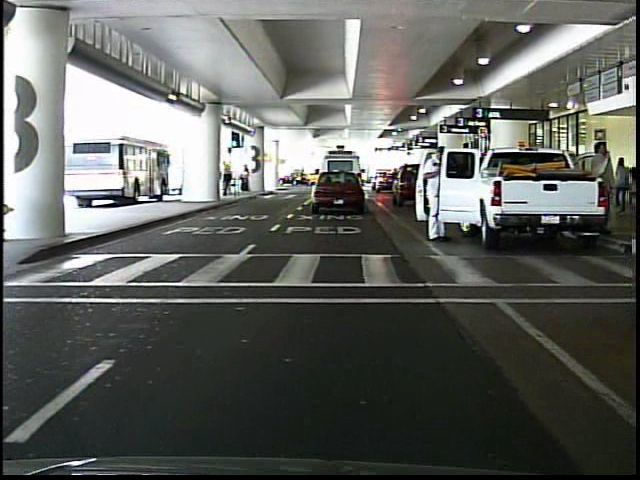person: (419, 140, 457, 247), (584, 138, 615, 230), (612, 154, 631, 212), (221, 158, 235, 198), (239, 163, 255, 195)
